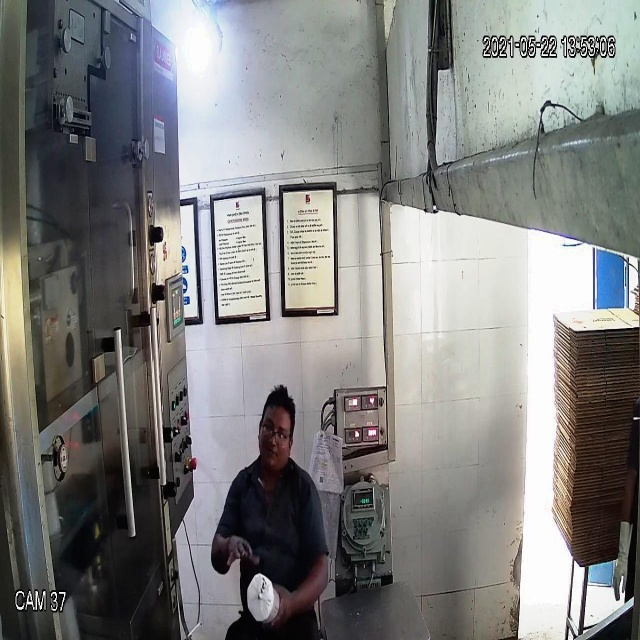Gafas: (255, 417, 296, 453)
